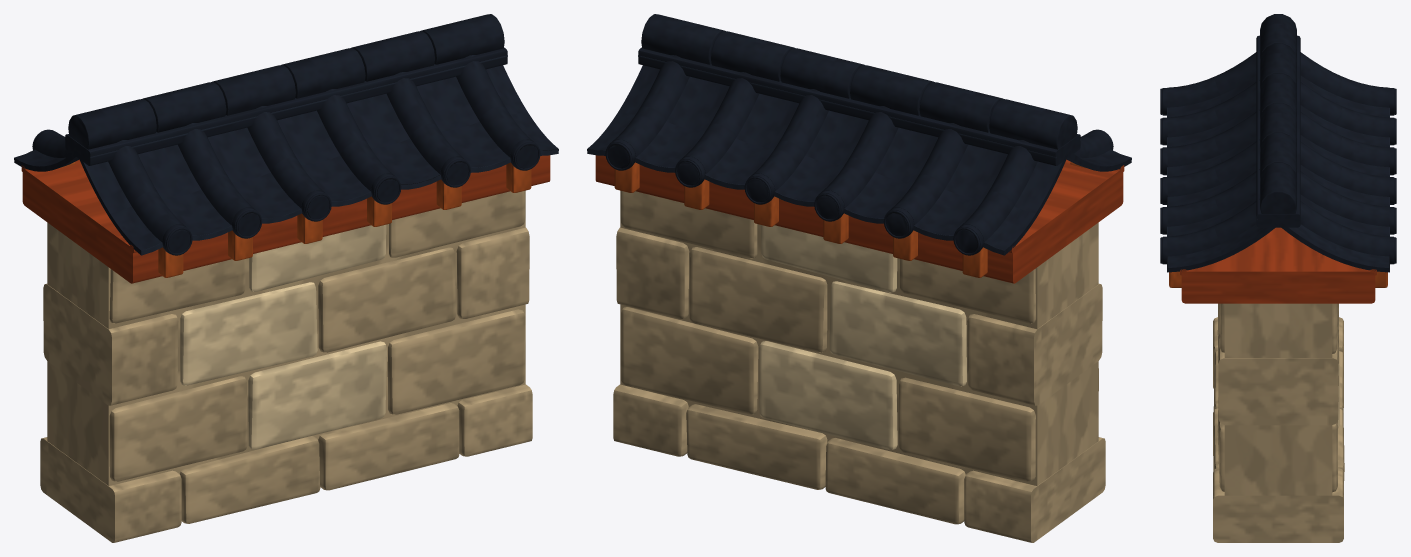
File: Wall_Middle.fbx
3 renders of one model, left to right at view 1: azimuth 30°, elevation 25°; view 2: azimuth 150°, elevation 25°; view 3: azimuth 270°, elevation 25°, orthographic. The views are drawn at different scales.
Parts seen in each view (by area): view 1: Wall_Middle_Geometry; view 2: Wall_Middle_Geometry; view 3: Wall_Middle_Geometry.
Boxes of the visible parts, x1,y1,x2,y2 form: Wall_Middle_Geometry: (14, 14, 558, 542); Wall_Middle_Geometry: (587, 14, 1131, 542); Wall_Middle_Geometry: (1160, 14, 1396, 542).
Size of the model in its own units: 2.4 by 2.2 by 1.34.
